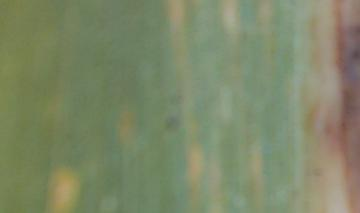tarspot: (166, 116, 182, 132), (350, 49, 360, 59)
